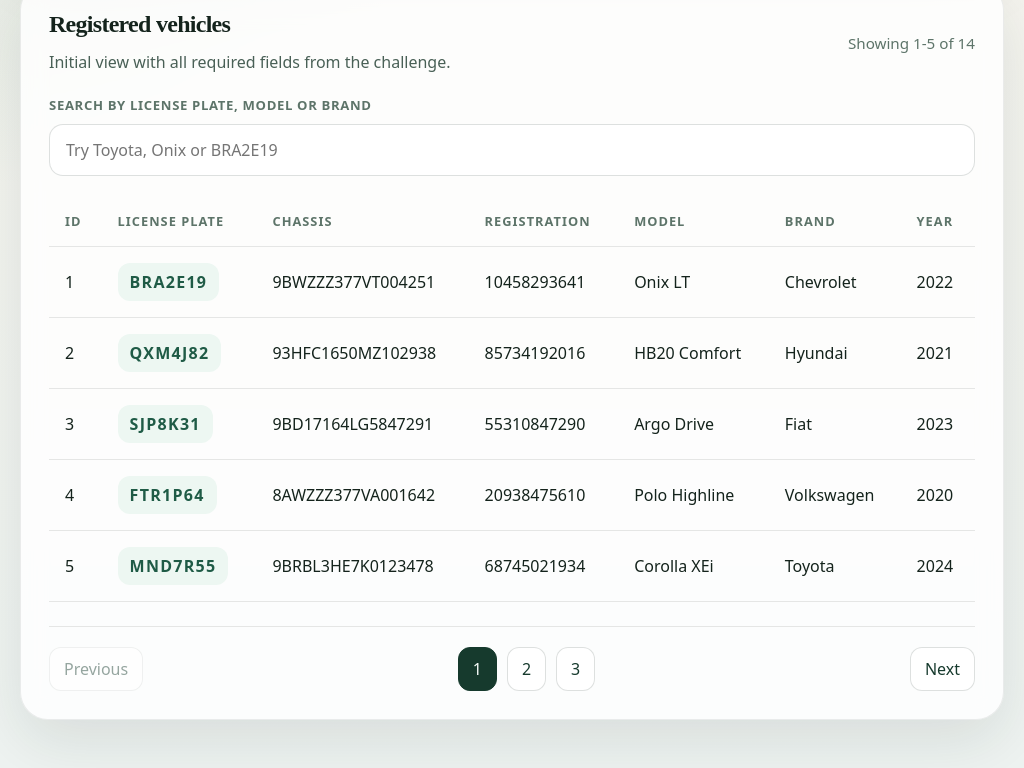
VehicleListComponent › should navigate to the next page
This screenshot has width=1024, height=768.
(page scrolled)
Step 1. Click the button "Next" → (942, 669), box [910, 647, 975, 691]
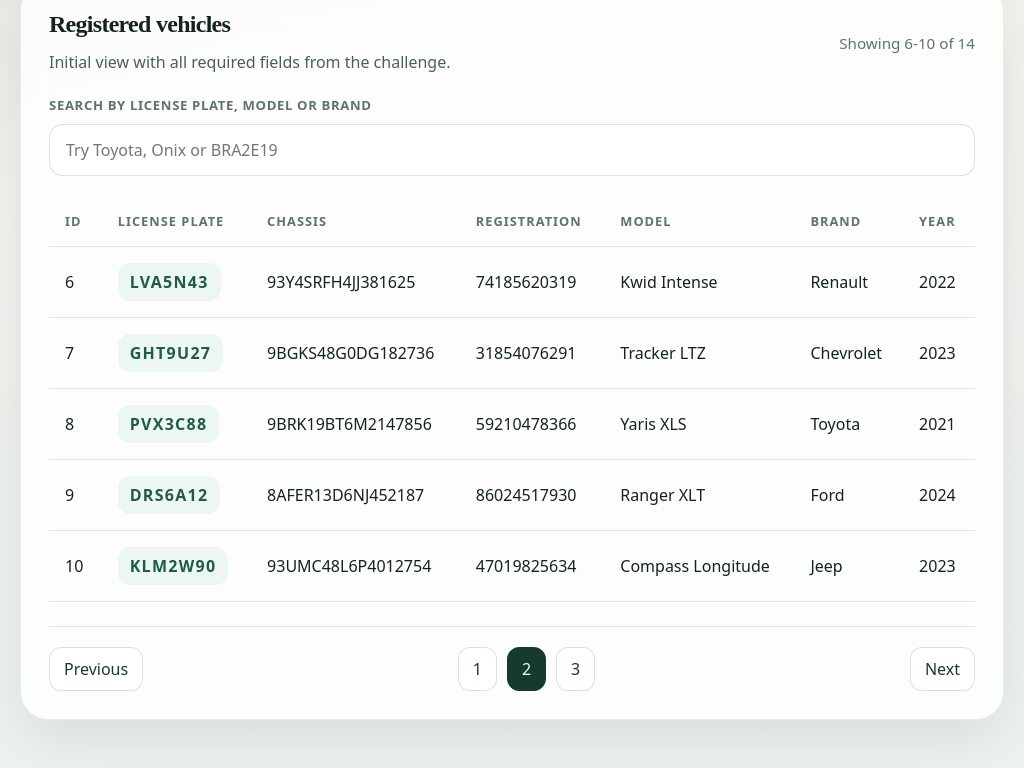
Expected: the text "Showing 6-10 of 14" is shown, [839, 31, 975, 56]
Expected: the text "LVA5N43" is shown, [118, 263, 221, 301]
